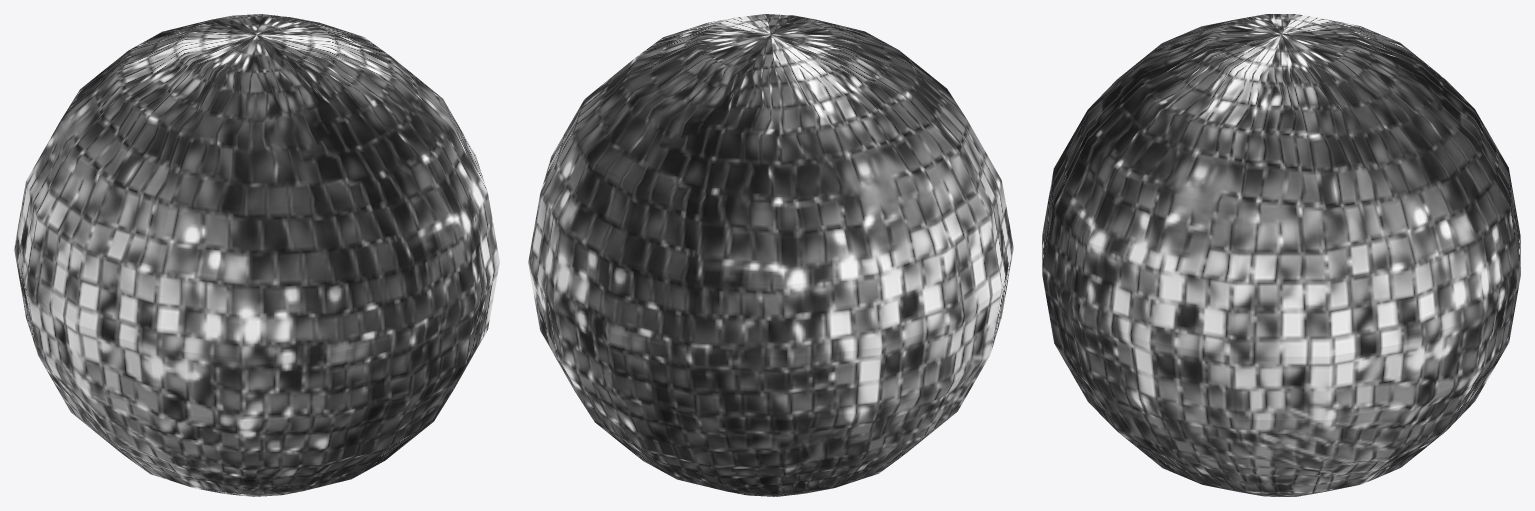
The model's file is discoBall.glb.
3 renders of one model, left to right at view 1: azimuth 30°, elevation 25°; view 2: azimuth 150°, elevation 25°; view 3: azimuth 270°, elevation 25°, orthographic.
Parts seen in each view (by area): view 1: Sphere.003; view 2: Sphere.003; view 3: Sphere.003.
Part boxes in pixels (bbox=[...]): Sphere.003: bbox=[14, 14, 499, 496]; Sphere.003: bbox=[528, 14, 1013, 496]; Sphere.003: bbox=[1042, 14, 1520, 496].
Size of what is drawn, in the model's own units: 1.09 by 1.11 by 1.09.
1 material, 1 textured.
